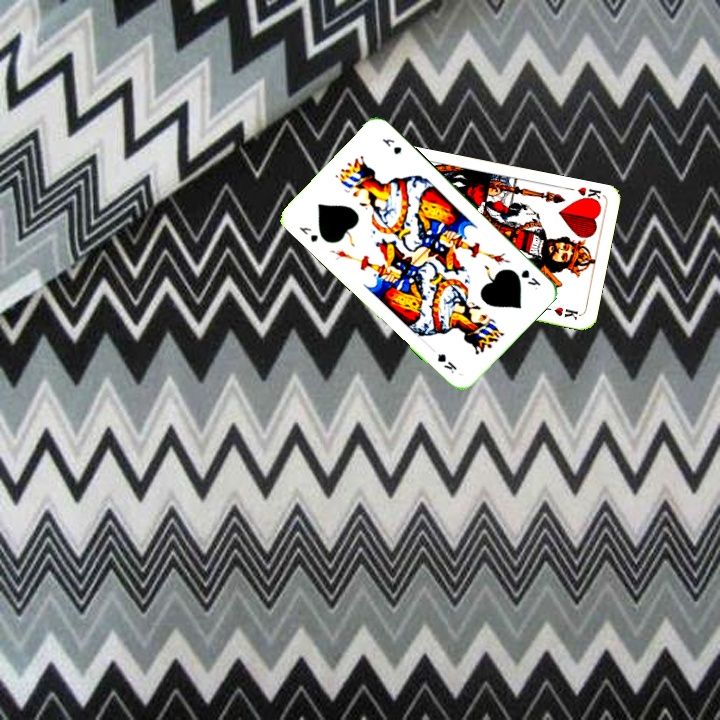GK: (517, 266, 543, 293), (295, 223, 320, 244)
HK: (573, 183, 605, 206)
